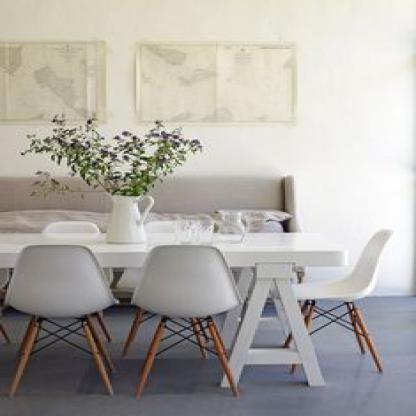chair: (283, 217, 407, 394), (3, 237, 123, 416), (125, 242, 251, 408)
table: (0, 229, 339, 386)
